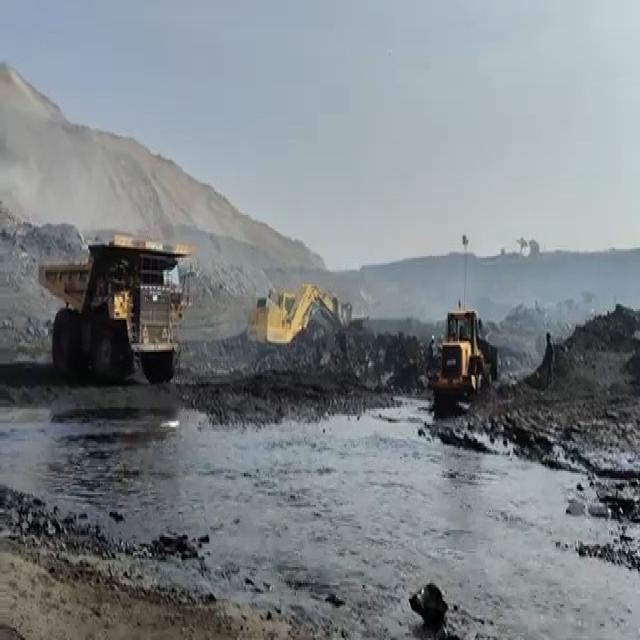buldozerpayloadergrader: (432, 303, 503, 400)
dump_truck: (29, 228, 191, 378)
excavator: (246, 280, 352, 374)
